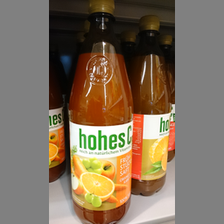juice: (67, 1, 134, 224), (126, 12, 172, 195)
